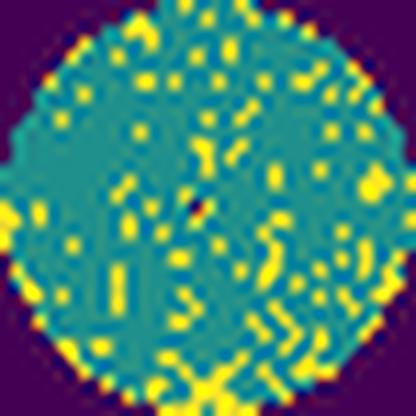Edge-Loc: (148, 350, 272, 414), (0, 198, 24, 260)
